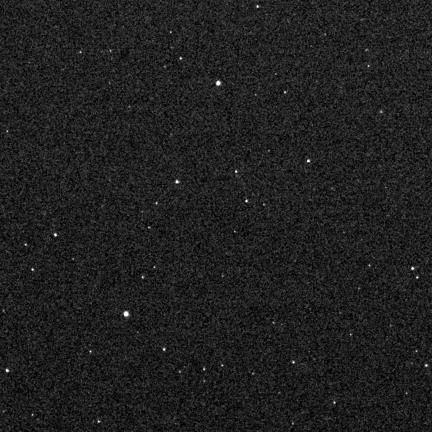blob: (124, 311, 129, 317), (216, 81, 221, 86), (163, 348, 167, 352), (411, 267, 415, 271), (176, 180, 180, 184), (32, 268, 35, 272), (6, 369, 9, 372), (54, 233, 57, 236), (246, 200, 249, 203), (307, 160, 310, 162)
